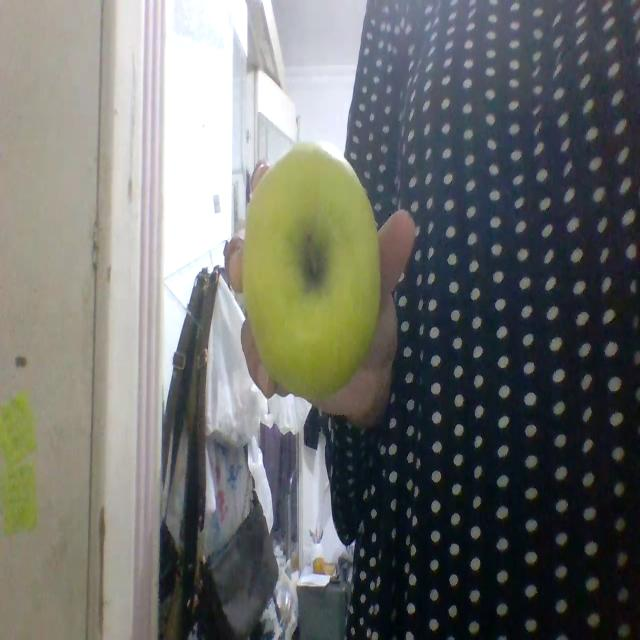50-_ripeness: (245, 142, 381, 392)
